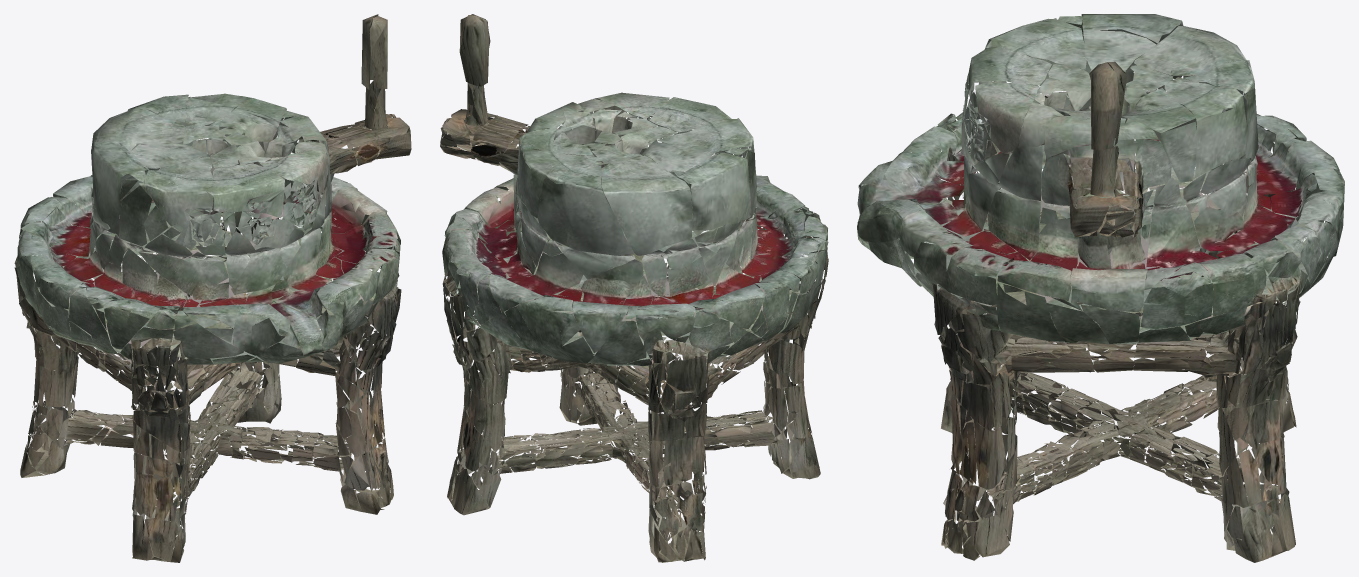
The model's file is a209_el_degirmeni.glb.
3 renders of one model, left to right at view 1: azimuth 30°, elevation 25°; view 2: azimuth 150°, elevation 25°; view 3: azimuth 270°, elevation 25°, orthographic. The views are drawn at different scales.
Visible parts, largest first — view 1: Mesh_0; view 2: Mesh_0; view 3: Mesh_0.
Boxes of the visible parts, x1,y1,x2,y2 form: Mesh_0: (14,14,411,562); Mesh_0: (440,14,828,562); Mesh_0: (857,14,1344,562).
Size of the model in its own units: 1.64 by 1.91 by 1.61.
Materials: 1 (1 with a texture image).
